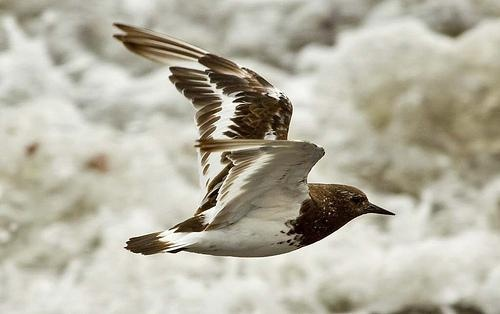bird: (102, 19, 397, 259)
